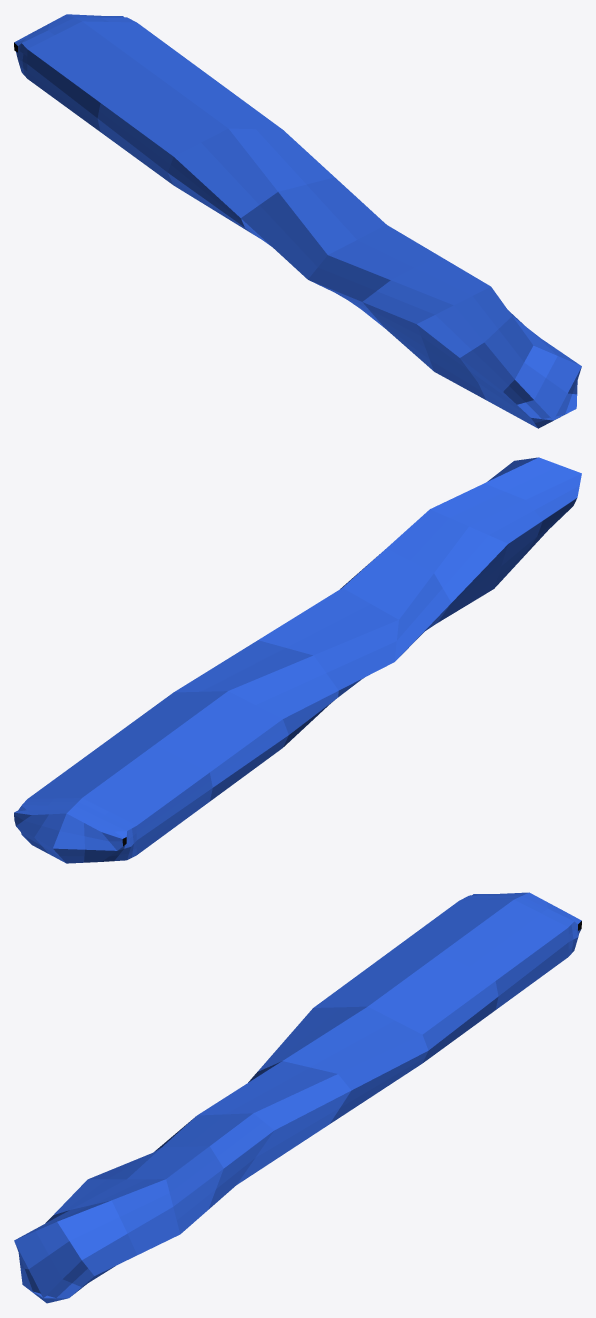
The model's file is eel.fbx.
The picture shows the model from 3 angles, top to bottom: view 1: azimuth 30°, elevation 25°; view 2: azimuth 150°, elevation 25°; view 3: azimuth 330°, elevation 25°; orthographic projection.
Visible parts, largest first — view 1: eel; view 2: eel; view 3: eel.
Part boxes in pixels (x1=…): eel: x1=14, y1=14, x2=581, y2=428; eel: x1=14, y1=457, x2=581, y2=863; eel: x1=14, y1=892, x2=581, y2=1303.
Size of the model in its own units: 217 by 132 by 1548.
